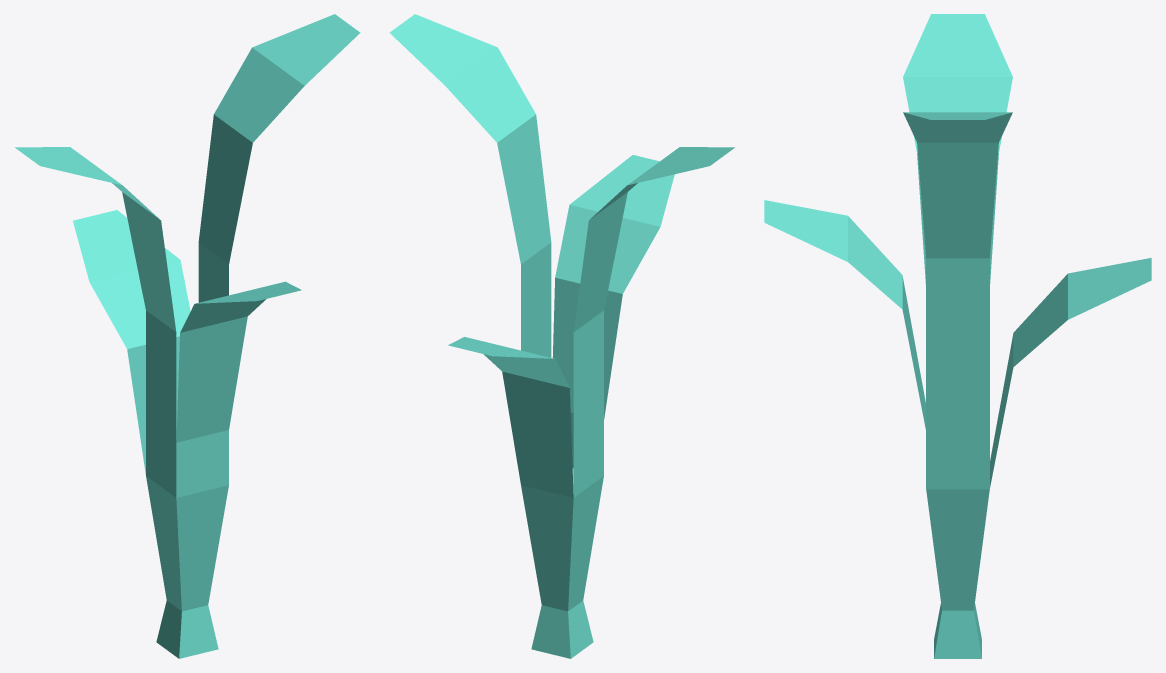
3 views of the same model, side by side, from view 1: azimuth 30°, elevation 25°; view 2: azimuth 150°, elevation 25°; view 3: azimuth 270°, elevation 25° (orthographic). The views are drawn at different scales.
Parts seen in each view (by area): view 1: crops_leafsStageB; view 2: crops_leafsStageB; view 3: crops_leafsStageB.
Part boxes in pixels (x1,y1,x2,y2): crops_leafsStageB: [15, 14, 360, 658]; crops_leafsStageB: [389, 14, 734, 658]; crops_leafsStageB: [764, 14, 1151, 658].
Bounding box in the file's own units: 0.3894 × 0.6771 × 0.3894.
